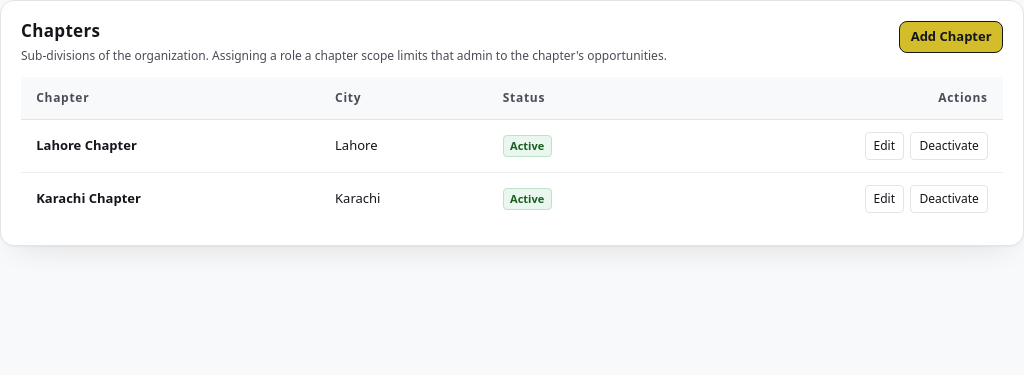
Test: ChaptersPanel › keeps the add form hidden until the Add Chapter button is clicked
Expected: the field labelled "Chapter name" is not shown
What coordinates should you click on to do the following:
click the button "Add Chapter"
I would click on:
 (951, 37)
Its box is [899, 21, 1003, 53].
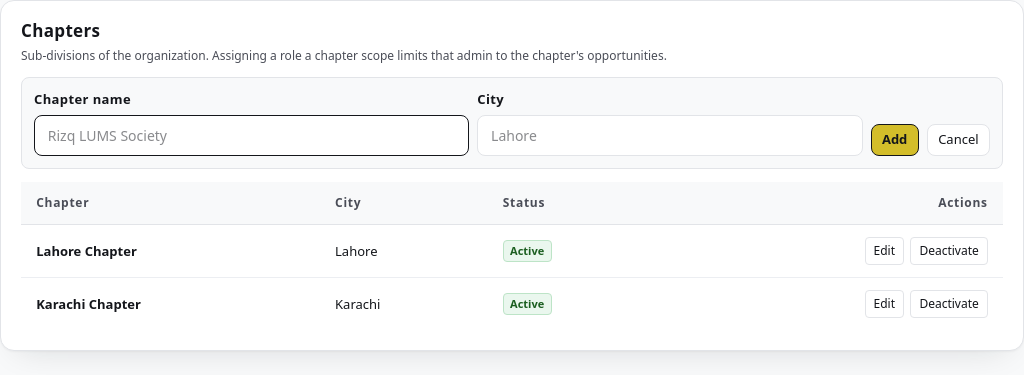
Result: the field labelled "Chapter name" is shown at [34, 115, 469, 156]
What coordinates should you click on to do the following:
click the button "Cancel"
I would click on:
 (958, 140)
Its box is [927, 124, 990, 156].
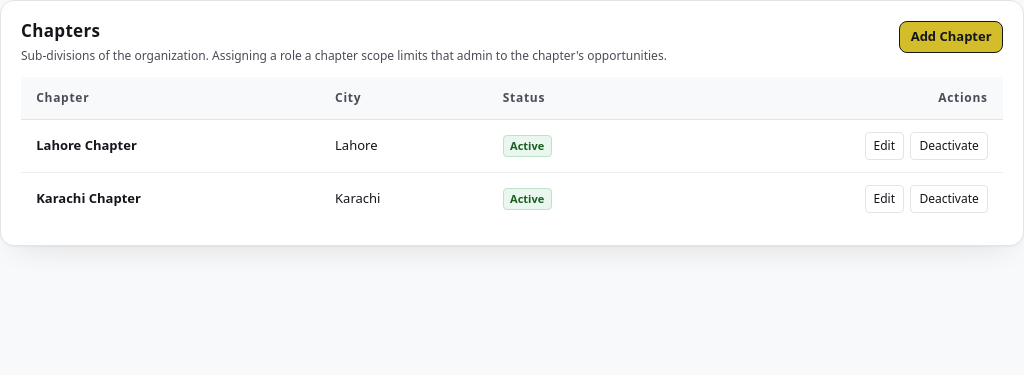
Result: the label labelled "Chapter name" is gone
